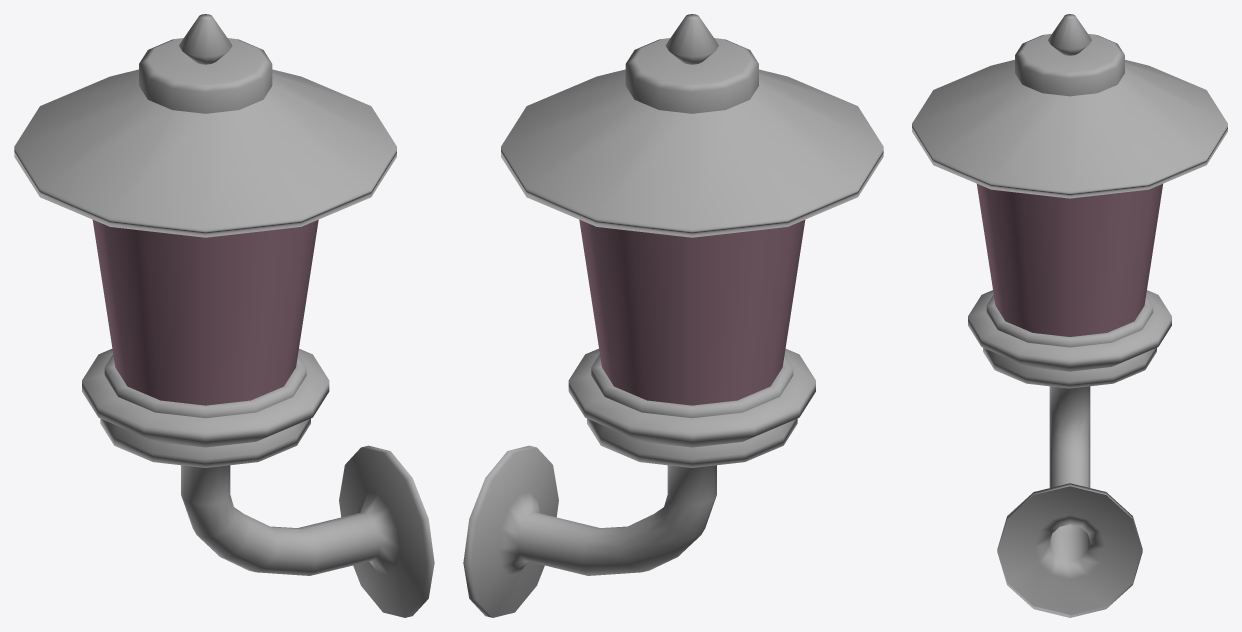
The model's file is streetwallLamp.fbx.
The picture shows the model from 3 angles, left to right: view 1: azimuth 30°, elevation 25°; view 2: azimuth 150°, elevation 25°; view 3: azimuth 270°, elevation 25°; orthographic projection. The views are drawn at different scales.
Visible parts, largest first — view 1: streetwallLamp; view 2: streetwallLamp; view 3: streetwallLamp.
Boxes of the visible parts, x1,y1,x2,y2 form: streetwallLamp: (14,14,434,617); streetwallLamp: (463,14,883,617); streetwallLamp: (912,14,1227,617).
Size of the model in its own units: 32.4 by 56.41 by 30.63.
